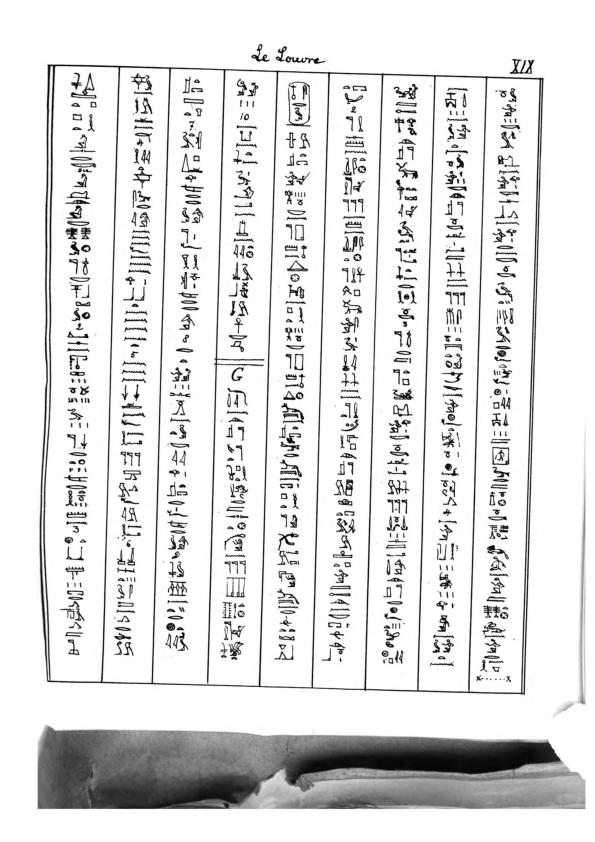circle: (286, 80, 314, 129)
